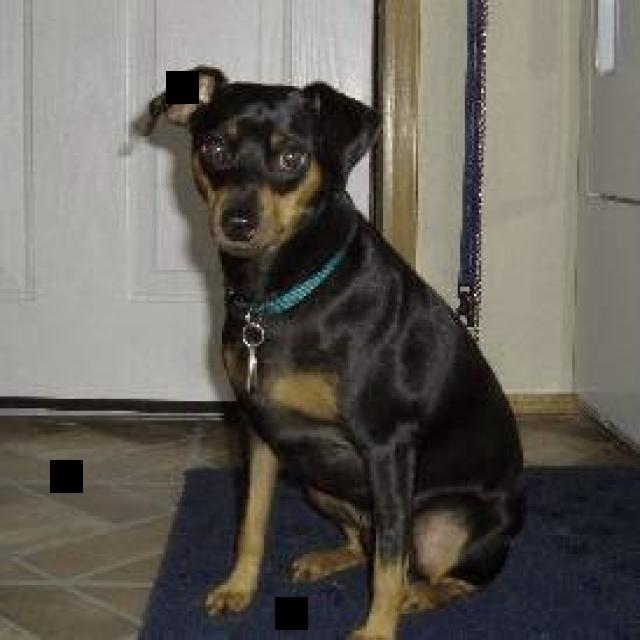adult_dog: (144, 65, 530, 640)
